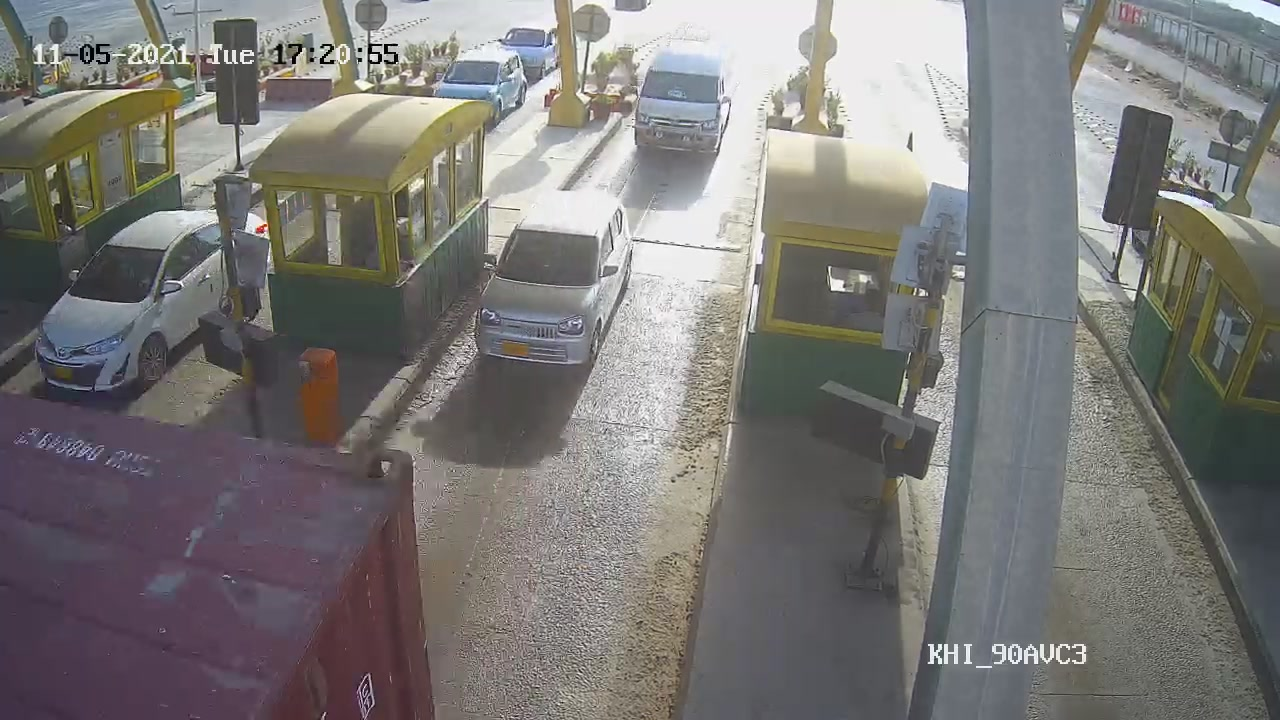F1: (456, 192, 642, 383)
